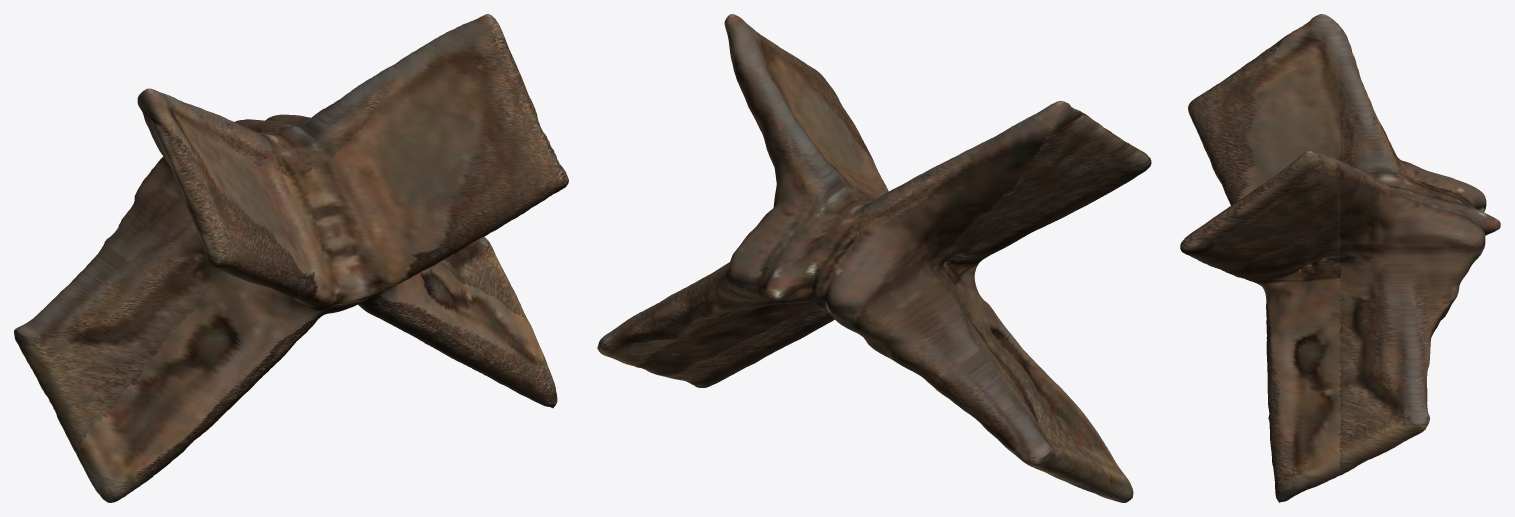
Rendered from kfl-2260.glb.
The picture shows the model from 3 angles, left to right: view 1: azimuth 30°, elevation 25°; view 2: azimuth 150°, elevation 25°; view 3: azimuth 270°, elevation 25°; orthographic projection. The views are drawn at different scales.
Parts seen in each view (by area): view 1: geometry_0; view 2: geometry_0; view 3: geometry_0.
Boxes of the visible parts, x1,y1,x2,y2 form: geometry_0: (14,14,568,502); geometry_0: (597,14,1151,502); geometry_0: (1180,14,1500,502).
Size of the model in its own units: 0.993 by 0.809 by 0.7079.
1 material, 1 textured.
